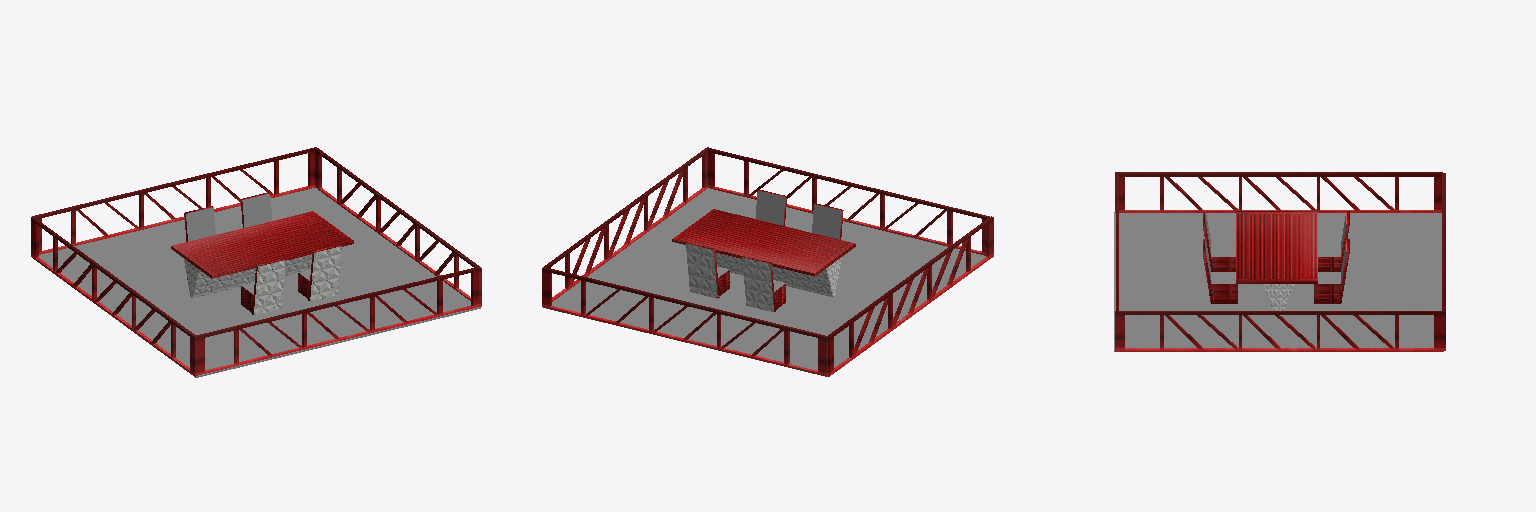
3 views of the same model, side by side, from view 1: azimuth 30°, elevation 25°; view 2: azimuth 150°, elevation 25°; view 3: azimuth 270°, elevation 25° (orthographic).
Parts seen in each view (by area): view 1: Box001, Box016, Box028, Box027, Box030, Box029, Box017, Box021, Box032, Box034, Box035; view 2: Box001, Box016, Box027, Box030, Box029, Box028, Box017, Box034, Box035, Box021, Box032; view 3: Box001, Box016, Box029, Box030, Box020, Box036, Box027, Box031, Box033, Box017.
Boxes of the visible parts, x1=… form: Box001: x1=38, y1=188, x2=480, y2=377; Box016: x1=171, y1=211, x2=353, y2=278; Box028: x1=196, y1=267, x2=480, y2=374; Box027: x1=32, y1=147, x2=316, y2=254; Box030: x1=31, y1=217, x2=197, y2=376; Box029: x1=315, y1=148, x2=481, y2=306; Box017: x1=184, y1=254, x2=311, y2=297; Box021: x1=308, y1=245, x2=341, y2=301; Box032: x1=252, y1=259, x2=285, y2=314; Box034: x1=184, y1=206, x2=215, y2=241; Box035: x1=241, y1=192, x2=271, y2=227; Box001: x1=546, y1=188, x2=992, y2=376; Box016: x1=672, y1=209, x2=855, y2=276; Box027: x1=542, y1=267, x2=827, y2=376; Box030: x1=828, y1=216, x2=993, y2=376; Box029: x1=544, y1=147, x2=708, y2=301; Box028: x1=707, y1=148, x2=990, y2=255; Box017: x1=716, y1=253, x2=841, y2=296; Box034: x1=742, y1=256, x2=775, y2=311; Box035: x1=686, y1=242, x2=719, y2=298; Box021: x1=755, y1=189, x2=786, y2=225; Box032: x1=812, y1=203, x2=843, y2=239; Box001: x1=1114, y1=212, x2=1443, y2=351; Box016: x1=1236, y1=211, x2=1317, y2=283; Box029: x1=1115, y1=311, x2=1442, y2=351; Box030: x1=1115, y1=172, x2=1442, y2=212; Box020: x1=1211, y1=272, x2=1237, y2=303; Box036: x1=1314, y1=272, x2=1340, y2=303; Box027: x1=1442, y1=173, x2=1445, y2=350; Box031: x1=1211, y1=245, x2=1235, y2=271; Box033: x1=1318, y1=245, x2=1340, y2=271; Box017: x1=1263, y1=284, x2=1293, y2=318.
Size of the model in its own units: 40.22 by 7.16 by 40.22.
Materials: 4 (2 with a texture image).